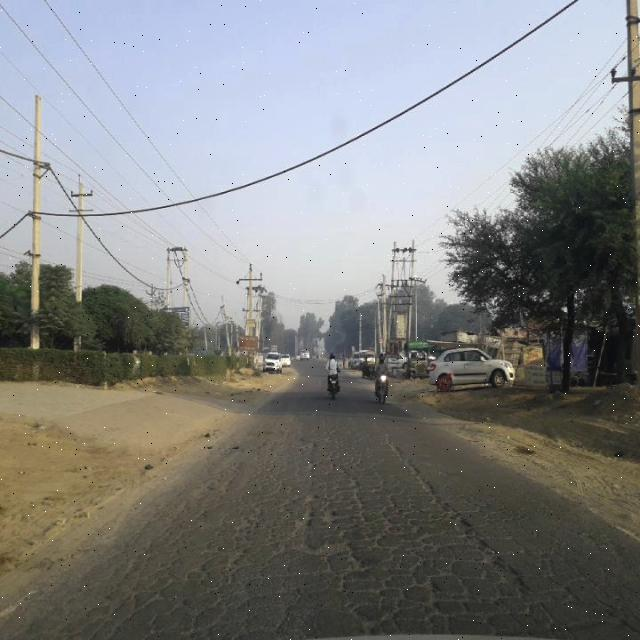D00: (380, 412, 554, 636)
D20: (45, 444, 606, 634)
